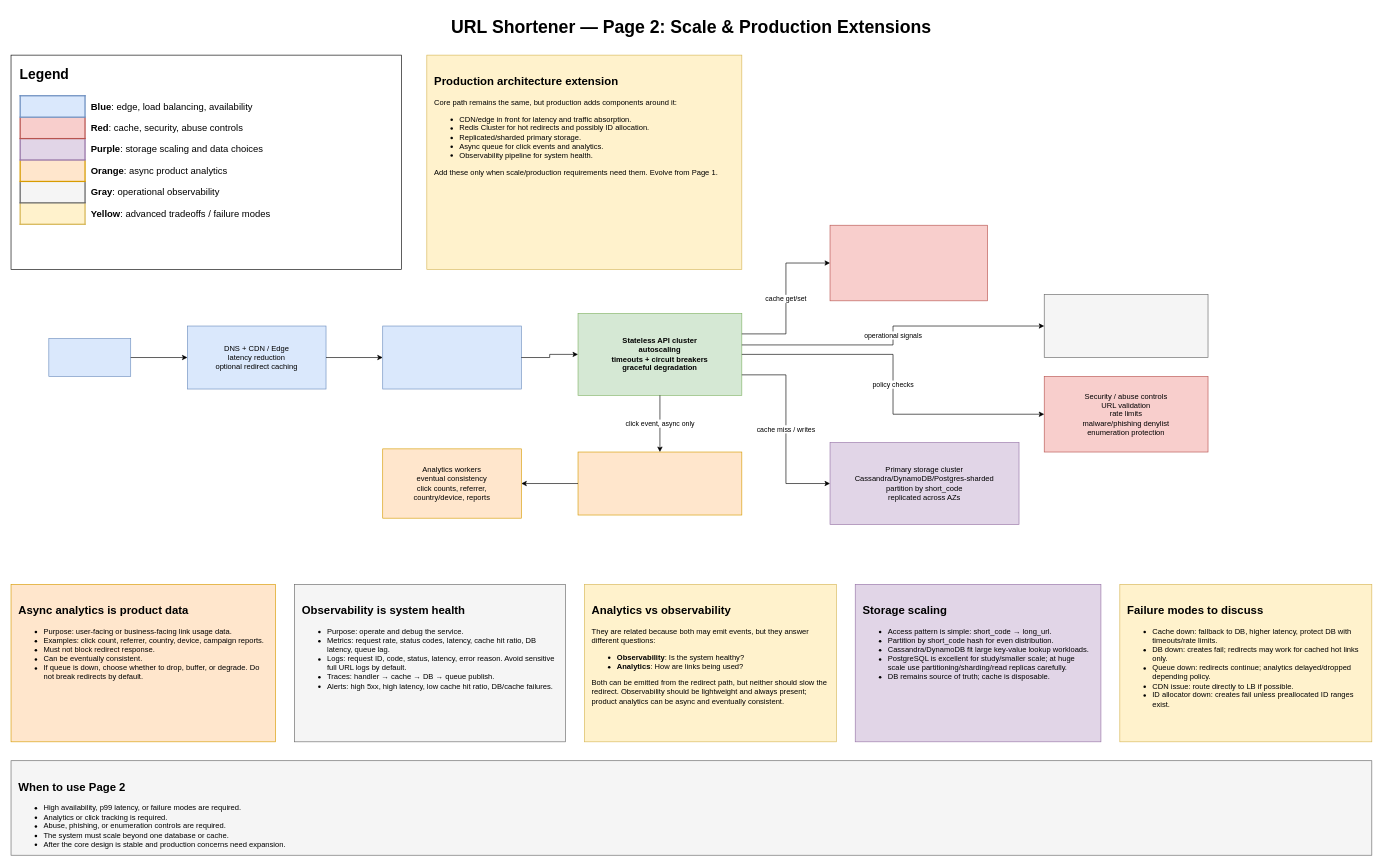
Image size: 1383x867. Some labels were removed from this diagram. Here are the shapes that lost their labels. From the top down, the centre of each, then its label:
At point 908,263: "Redis Cluster hot cache read-through/cache-aside ID allocator option".
At point 1126,326: "Observability pipeline logs, metrics, traces, alerts SLO dashboards".
At point 89,357: "Client".
At point 451,357: "Load Balancer health checks multi-AZ routing".
At point 659,483: "Async queue / stream click events only analytics must not block redirect".
